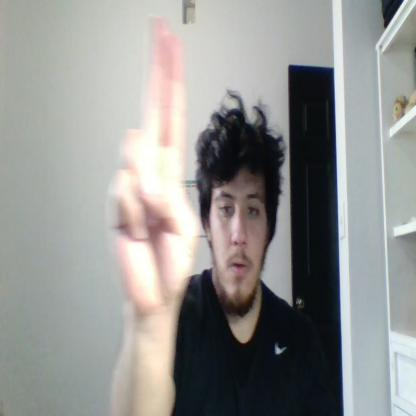U: (105, 13, 197, 312)
